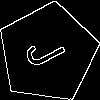J: (23, 28, 76, 72)
